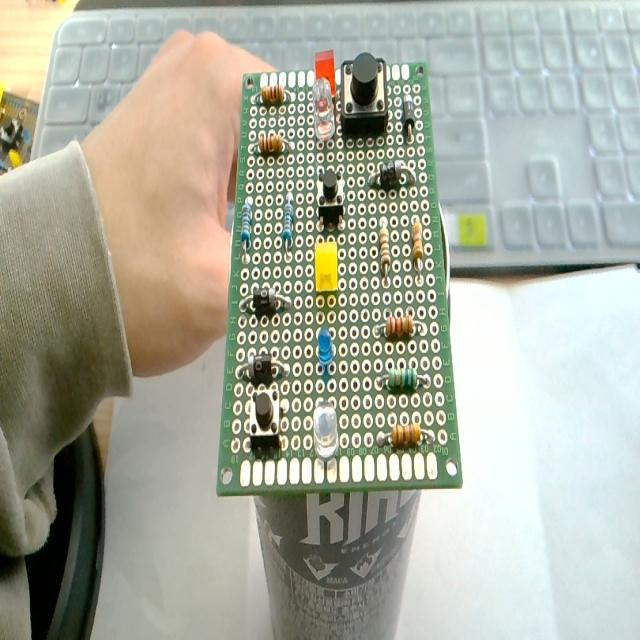diode: (242, 276, 292, 319), (366, 160, 423, 192), (235, 344, 281, 383), (398, 85, 416, 151)
led: (305, 397, 347, 473), (308, 236, 341, 302), (312, 74, 338, 154), (312, 324, 338, 386)
resistor: (378, 353, 424, 395), (373, 425, 435, 456), (404, 217, 426, 278), (256, 74, 288, 113), (238, 191, 256, 260), (254, 126, 292, 158), (382, 306, 422, 335), (376, 221, 394, 281), (280, 196, 294, 258)
switch: (337, 52, 388, 145), (246, 384, 288, 450), (311, 162, 351, 223)
